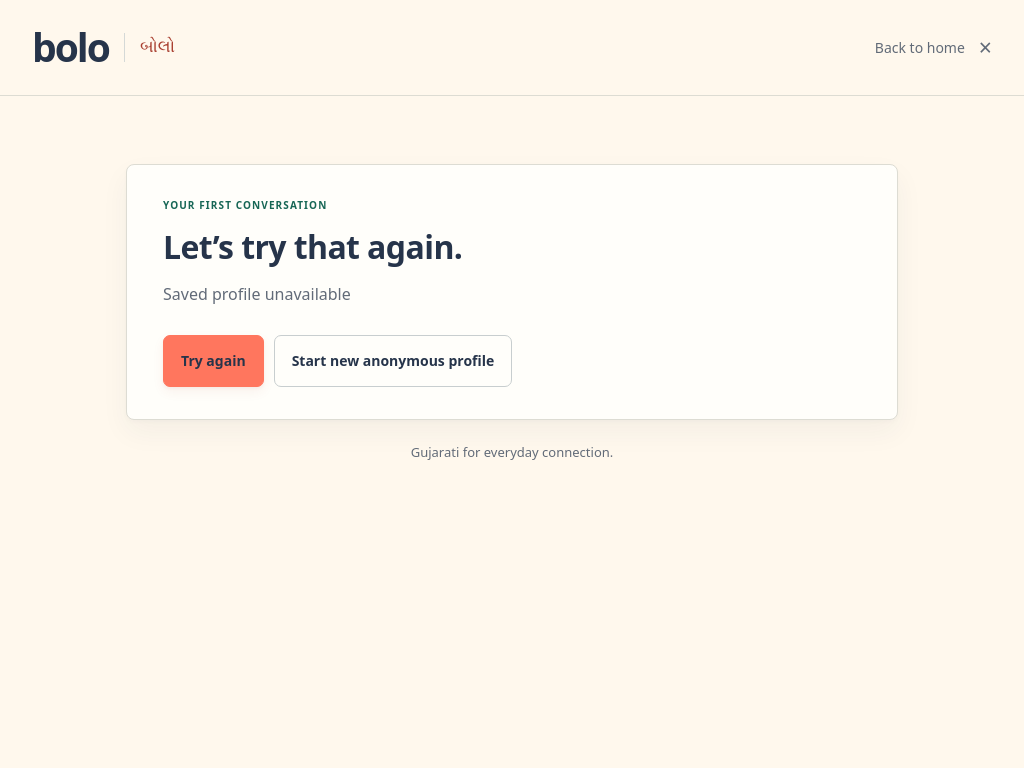
Test case: offers an explicit recovery action for a missing saved profile
Expected: the message "Saved profile unavailable" is shown, 163,283 -> 351,305
Click the button "Start new anonymous profile".
click(393, 361)  # box 274,335 -> 512,387
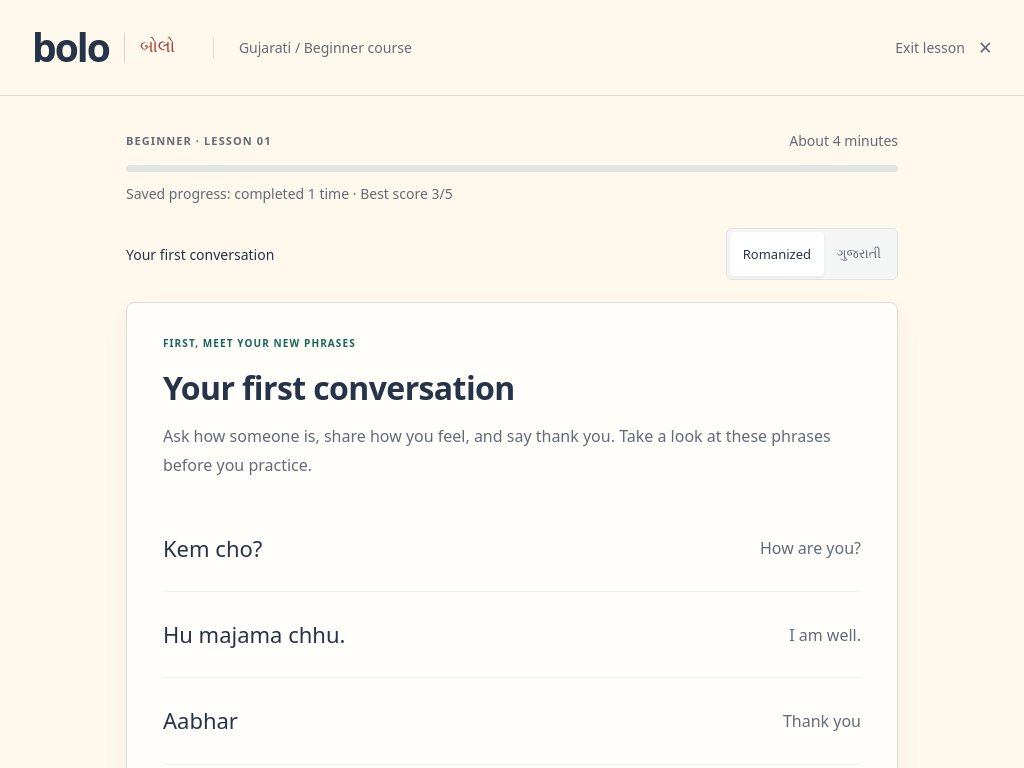
Result: the heading "Your first conversation" is shown at 163,366 -> 515,409
